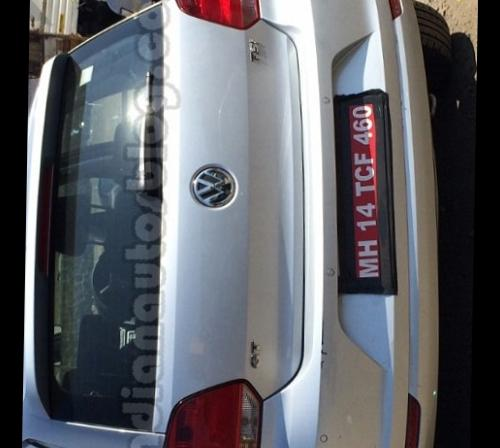plate: (329, 86, 398, 292)
